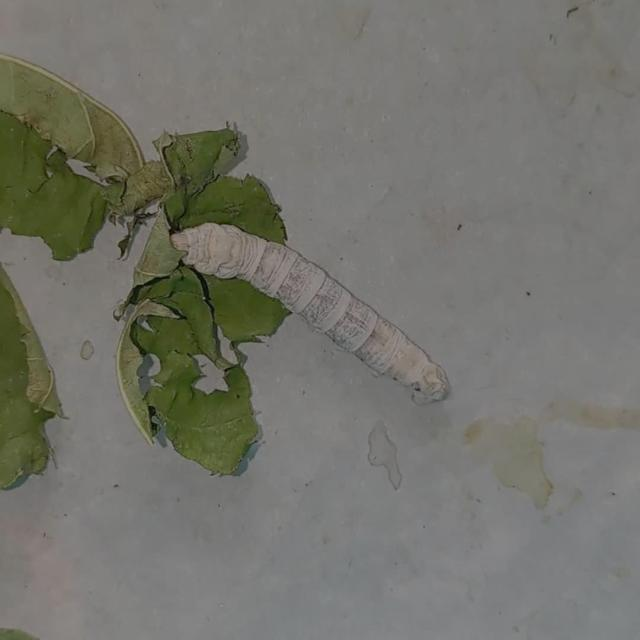Grasserie: (138, 200, 464, 442)
